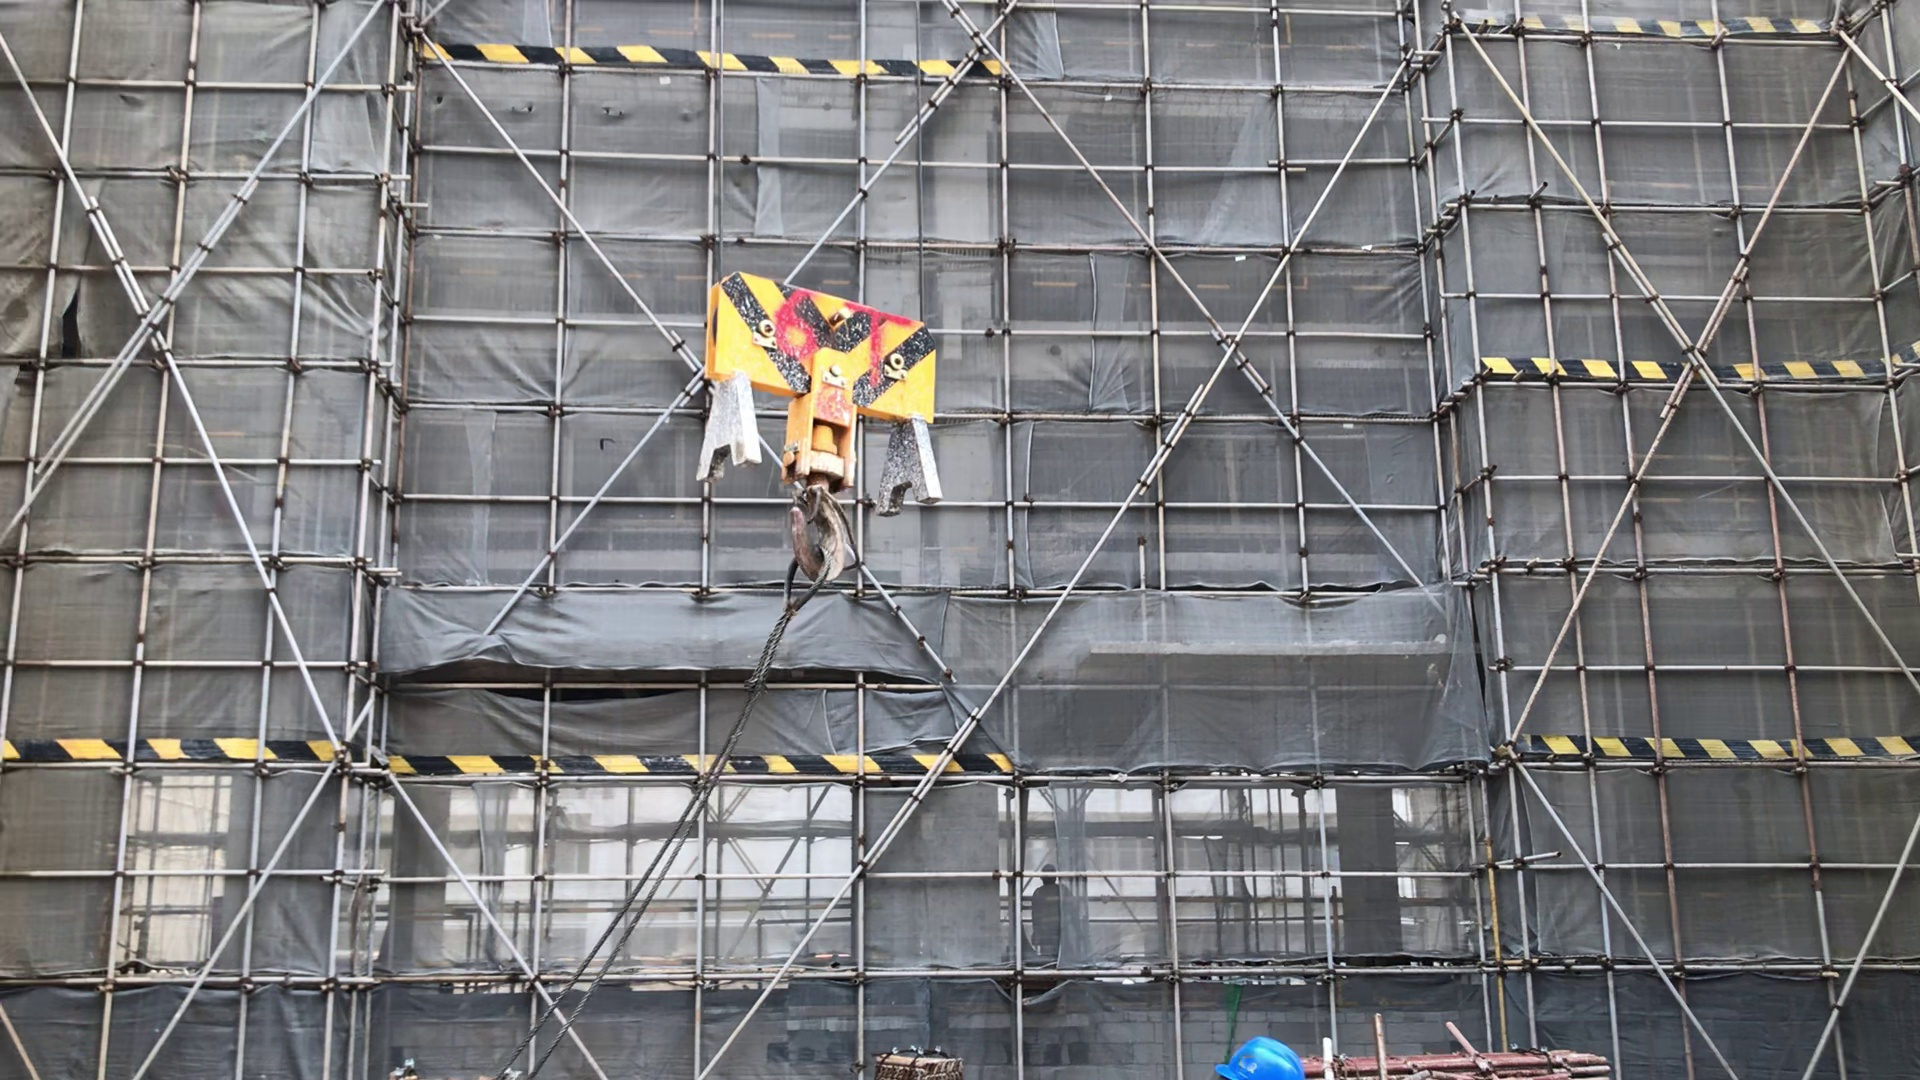helmet: (1211, 1033, 1303, 1080)
hook: (680, 257, 951, 587)
scaffold: (1305, 1040, 1629, 1080), (866, 1048, 963, 1080)
